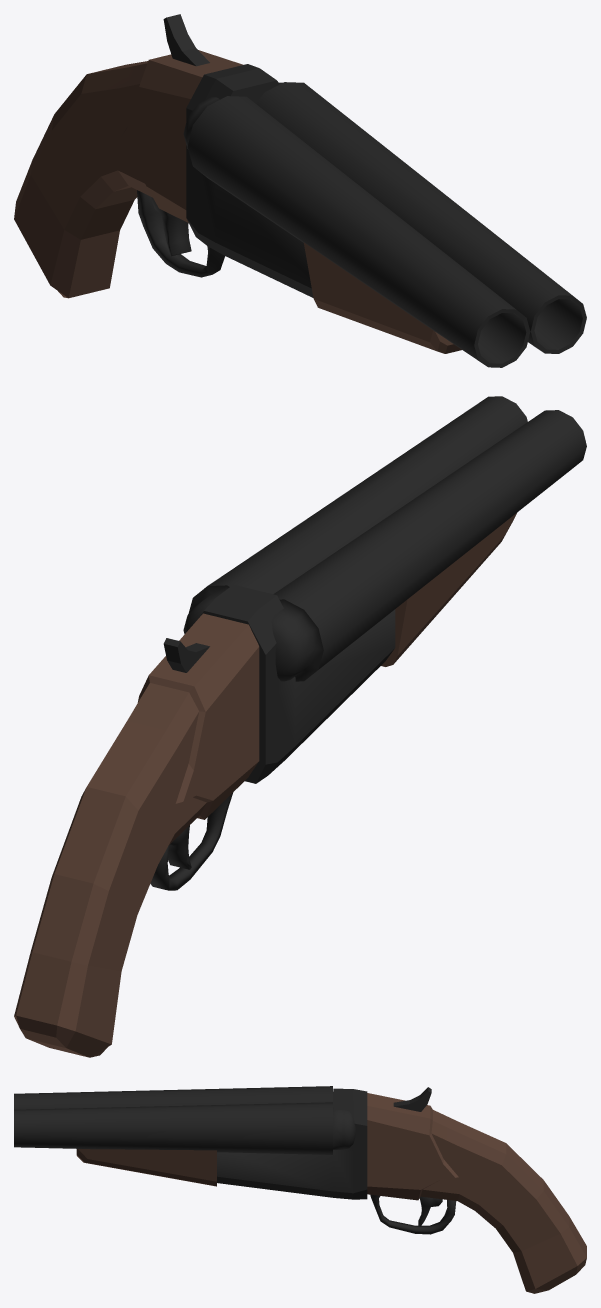
Rendered from Shotgun_2.fbx.
The picture shows the model from 3 angles, top to bottom: view 1: azimuth 30°, elevation 25°; view 2: azimuth 150°, elevation 25°; view 3: azimuth 270°, elevation 25°; orthographic projection. The views are drawn at different scales.
Visible parts, largest first — view 1: Shotgun_2; view 2: Shotgun_2; view 3: Shotgun_2.
Boxes of the visible parts, left/top/right/bottom form: Shotgun_2: left=14, top=14, right=586, bottom=367; Shotgun_2: left=14, top=396, right=586, bottom=1057; Shotgun_2: left=14, top=1086, right=586, bottom=1293.
Size of the model in its own units: 0.0828 by 0.5199 by 0.2.
